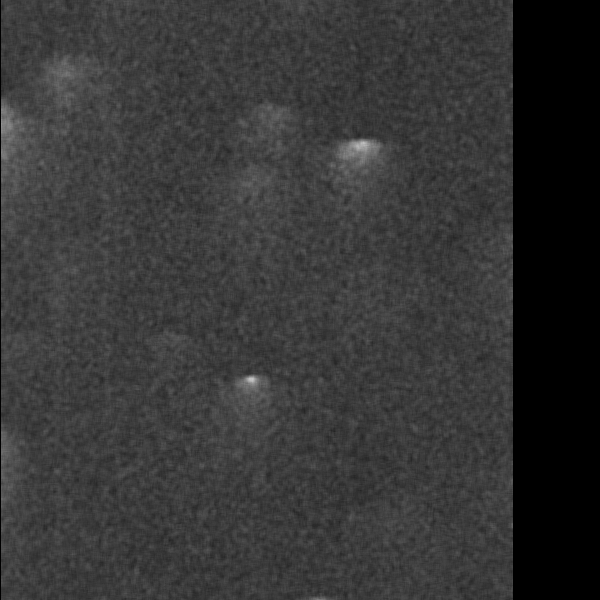spark: (100, 93, 124, 133), (311, 453, 327, 500)
